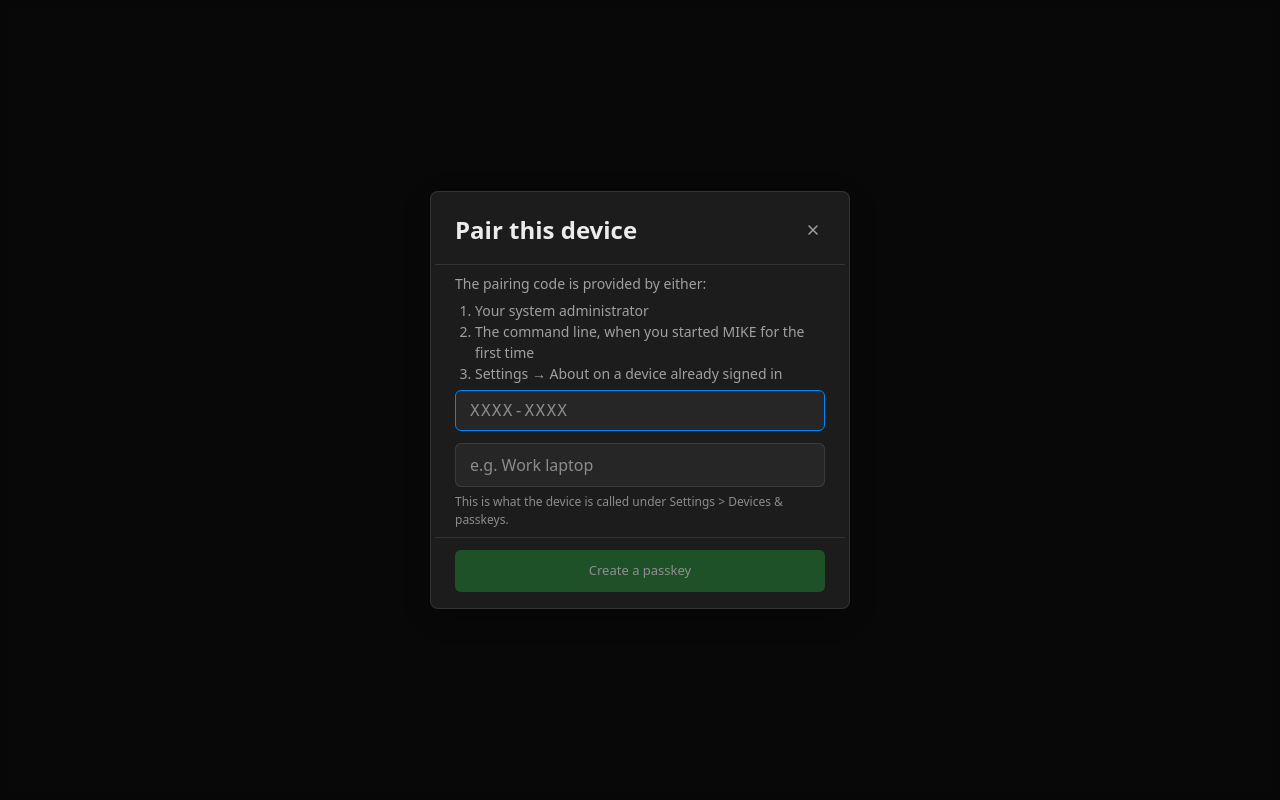
typing a pairing code › keeps what is typed where the person is looking
In the field with placeholder "XXXX-XXXX": (640, 411) left=455, top=390, right=825, bottom=431, type "ABCD-EF"
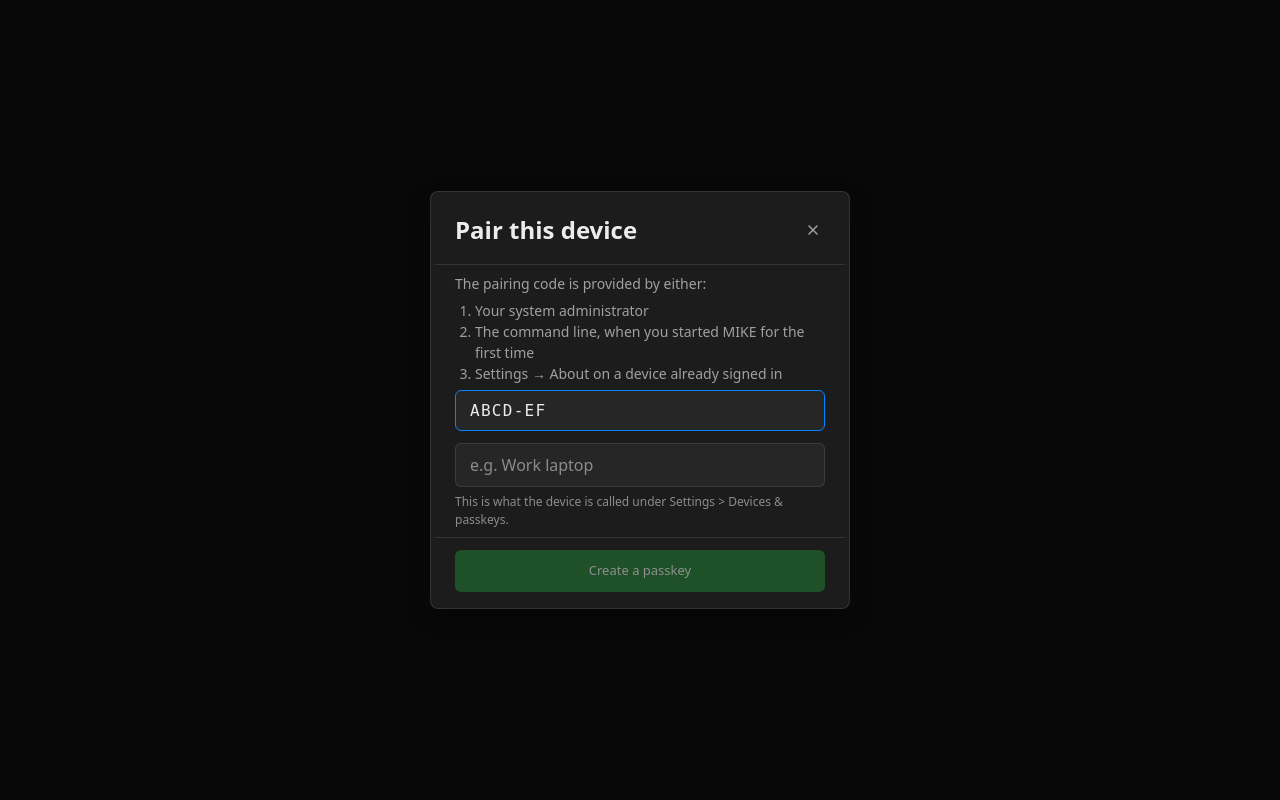
Replace the text in the field named "Pairing code" with "ABXCD-EF": (640, 411) left=455, top=390, right=825, bottom=431
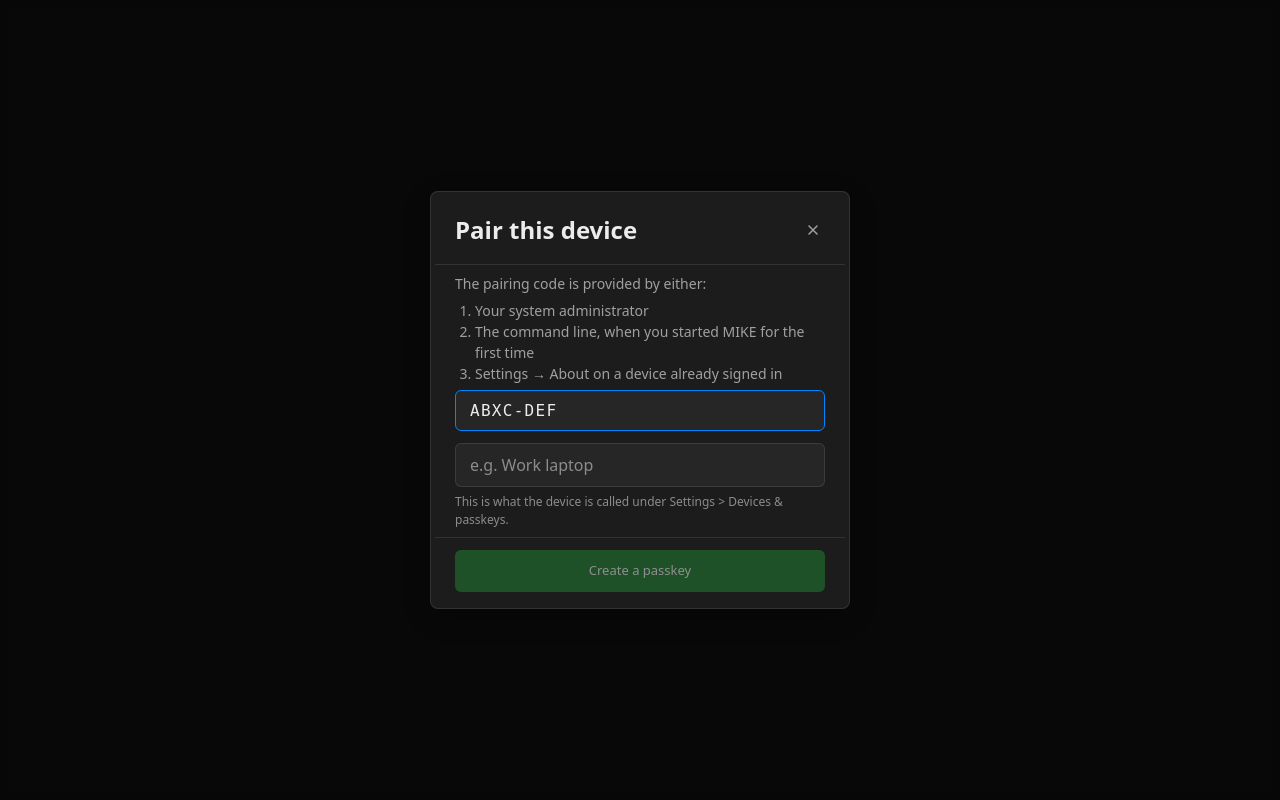
Check: the field named "Pairing code" holds "ABXC-DEF", box left=455, top=390, right=825, bottom=431
